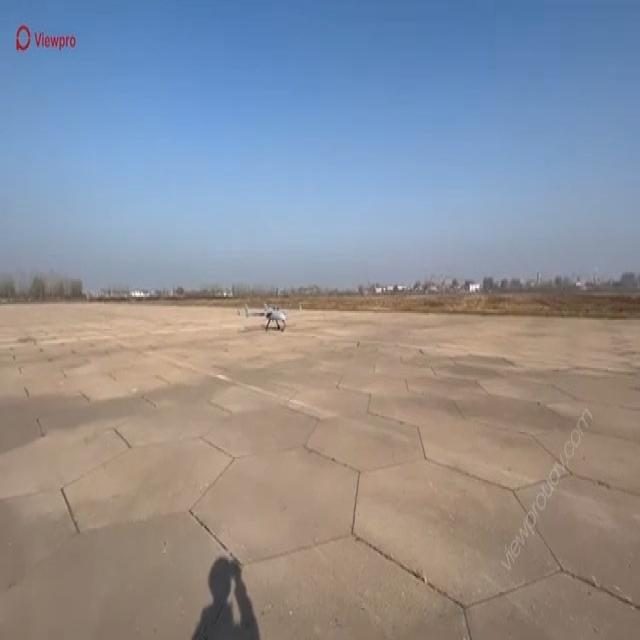drones: (241, 299, 300, 350)
